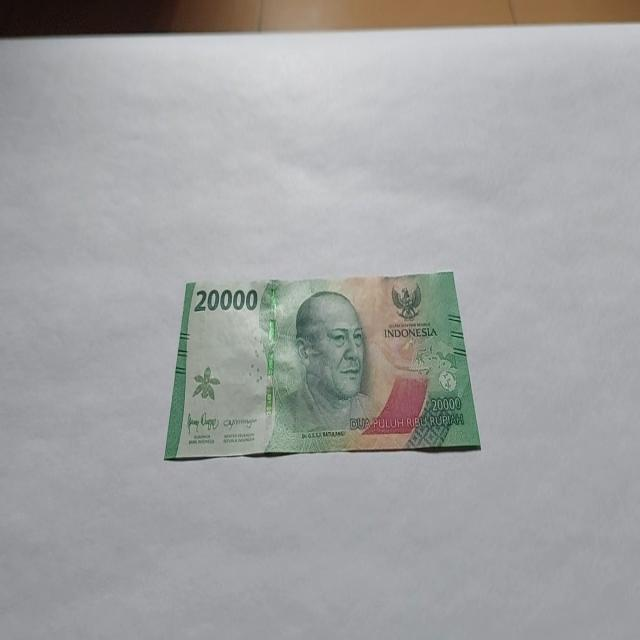dua puluh ribu rupiah: (164, 269, 482, 462)
